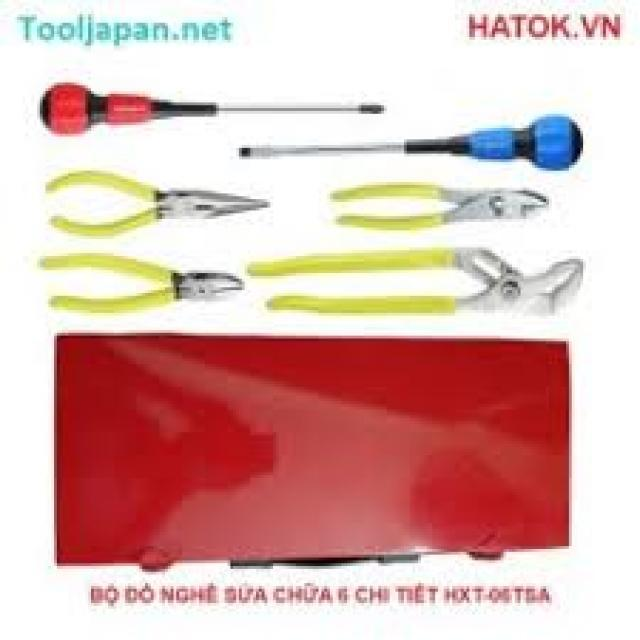screwdriver: (38, 76, 386, 140), (238, 112, 588, 175)
